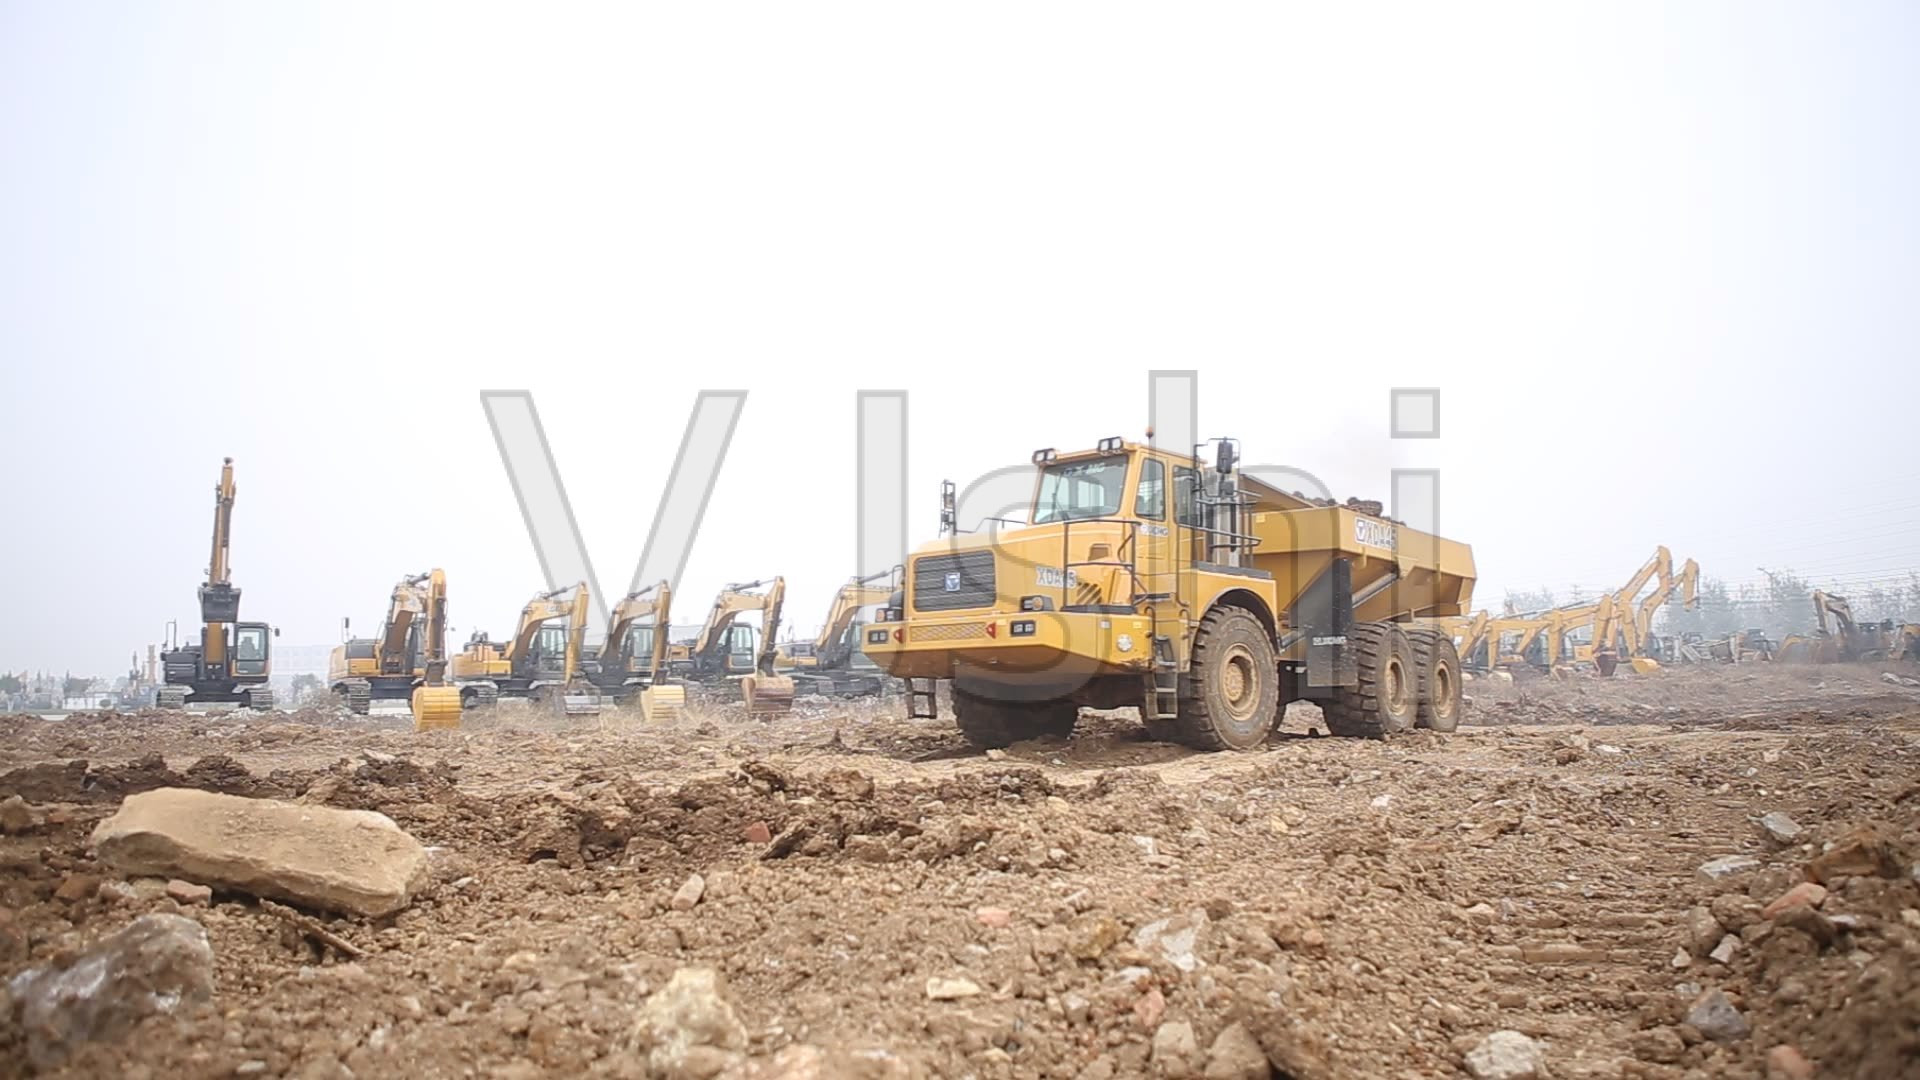excavator: (161, 439, 266, 736), (326, 564, 483, 740), (467, 582, 607, 720), (680, 575, 802, 717), (779, 567, 909, 699), (1576, 542, 1680, 690), (588, 578, 688, 728), (1635, 553, 1721, 696)
